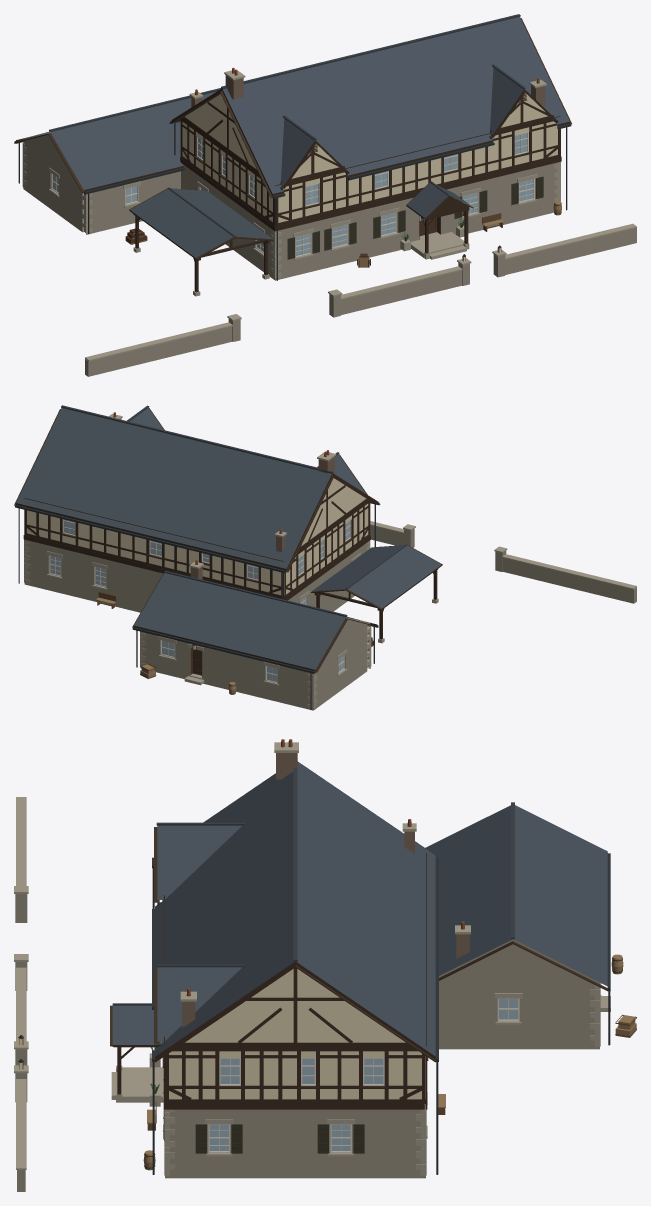
File: Hotel.fbx
3 renders of one model, top to bottom at view 1: azimuth 30°, elevation 25°; view 2: azimuth 150°, elevation 25°; view 3: azimuth 270°, elevation 25°, orthographic. The views are drawn at different scales.
Visible parts, largest first — view 1: Ext_Roof, Ext_Facade, Ext_Timber, Ext_Carport, Ext_Yard, Glass, Ext_Porch, Ext_Windows, Ext_Shutters; view 2: Ext_Roof, Ext_Facade, Ext_Timber, Ext_Carport, Glass, Ext_Yard, Ext_Windows; view 3: Ext_Roof, Ext_Facade, Ext_Timber, Ext_Yard, Glass, Ext_Porch, Ext_Shutters, Ext_Windows.
Part boxes in pixels (<box>): Ext_Roof: <box>14,14,571,280</box>; Ext_Facade: <box>22,92,636,376</box>; Ext_Timber: <box>14,18,571,231</box>; Ext_Carport: <box>129,187,273,296</box>; Ext_Yard: <box>85,223,636,361</box>; Glass: <box>52,133,533,255</box>; Ext_Porch: <box>406,181,473,259</box>; Ext_Windows: <box>51,132,534,257</box>; Ext_Shutters: <box>287,176,543,259</box>; Ext_Roof: <box>15,405,379,709</box>; Ext_Facade: <box>24,478,636,710</box>; Ext_Timber: <box>14,408,380,672</box>; Ext_Carport: <box>311,544,442,643</box>; Glass: <box>50,519,350,681</box>; Ext_Yard: <box>370,521,636,589</box>; Ext_Windows: <box>49,519,351,683</box>; Ext_Roof: <box>152,739,610,1174</box>; Ext_Facade: <box>17,939,610,1191</box>; Ext_Timber: <box>154,827,607,1109</box>; Ext_Yard: <box>14,797,28,1169</box>; Glass: <box>209,999,518,1151</box>; Ext_Porch: <box>110,1003,163,1102</box>; Ext_Shutters: <box>163,1079,364,1153</box>; Ext_Windows: <box>208,998,519,1152</box>.
Bounding box in the file's own units: 4040 × 1255 × 2863.
